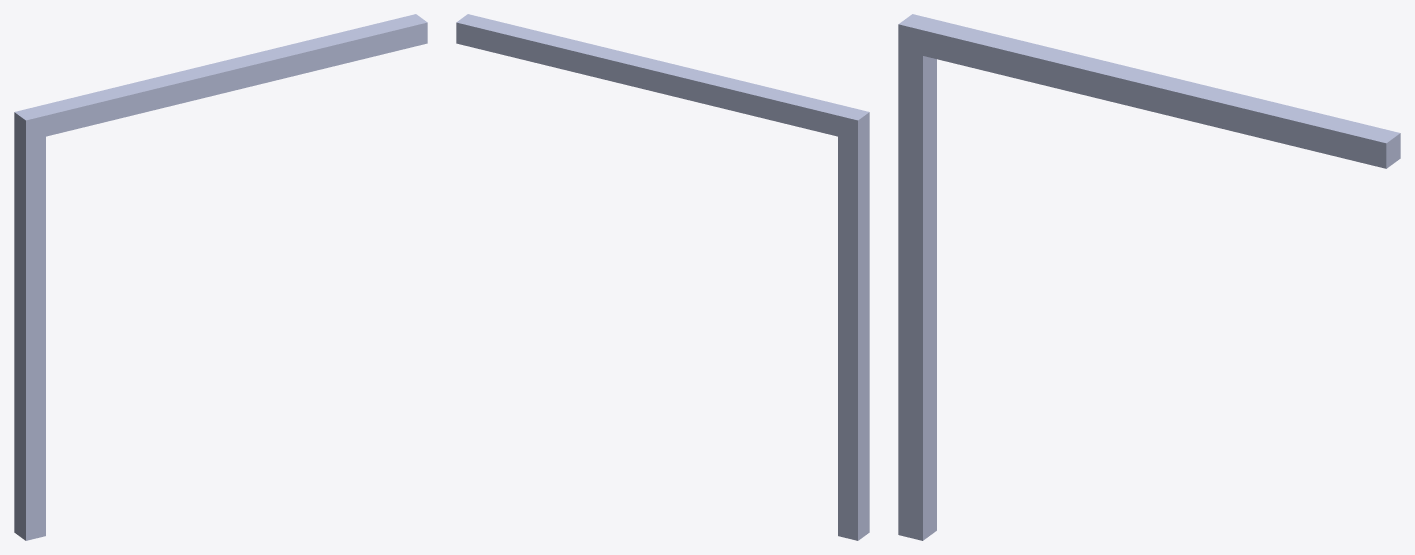
Rendered from LGraph.obj.
3 views of the same model, side by side, from view 1: azimuth 30°, elevation 25°; view 2: azimuth 150°, elevation 25°; view 3: azimuth 330°, elevation 25° (orthographic). The views are drawn at different scales.
Visible parts, largest first — view 1: ig_ManifoldSolidBRep141_DC_Shell; view 2: ig_ManifoldSolidBRep141_DC_Shell; view 3: ig_ManifoldSolidBRep141_DC_Shell.
Part boxes in pixels (x1,y1,x2,y2): ig_ManifoldSolidBRep141_DC_Shell: (14, 14, 427, 540); ig_ManifoldSolidBRep141_DC_Shell: (456, 14, 869, 540); ig_ManifoldSolidBRep141_DC_Shell: (898, 14, 1400, 540).
Size of the model in its own units: 5 by 5 by 0.25.
